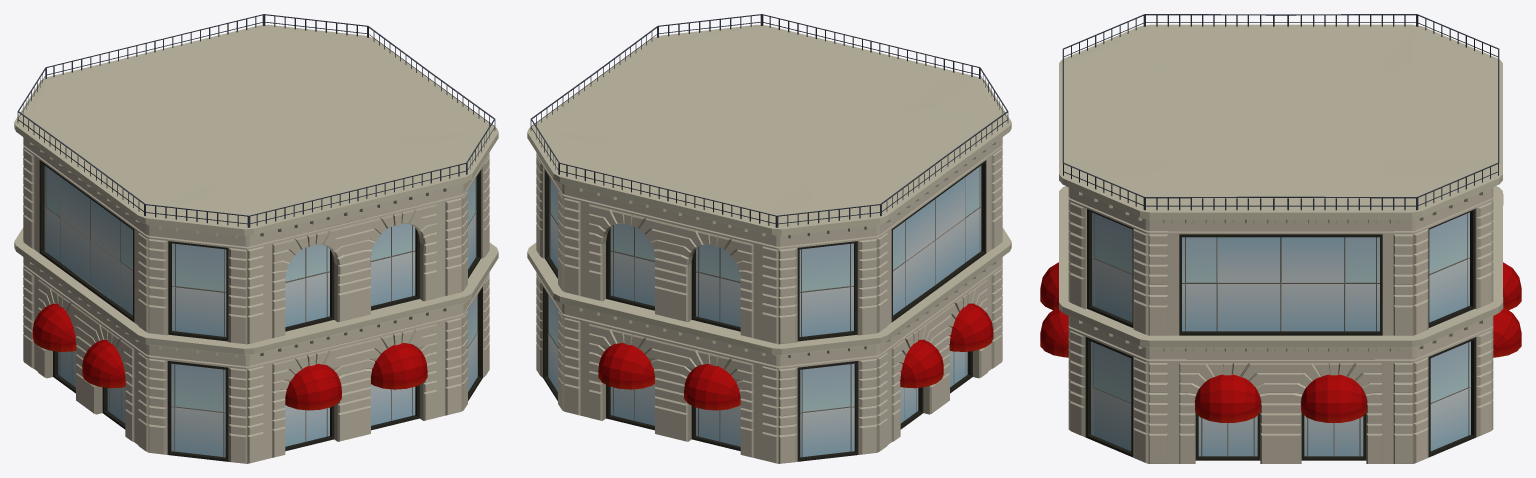
The picture shows the model from 3 angles, left to right: view 1: azimuth 30°, elevation 25°; view 2: azimuth 150°, elevation 25°; view 3: azimuth 270°, elevation 25°; orthographic projection. The views are drawn at different scales.
Visible parts, largest first — view 1: frenchBase.016, frenchBase.033; view 2: frenchBase.016, frenchBase.033; view 3: frenchBase.016, frenchBase.033.
Boxes of the visible parts, x1,y1,x2,y2 form: frenchBase.016: (14,14,498,463); frenchBase.033: (61,46,451,207); frenchBase.016: (527,14,1011,463); frenchBase.033: (574,46,964,207); frenchBase.016: (1040,14,1521,463); frenchBase.033: (1104,42,1457,194).
Bounding box in the file's own units: 0.8491 × 0.5243 × 0.8491.
